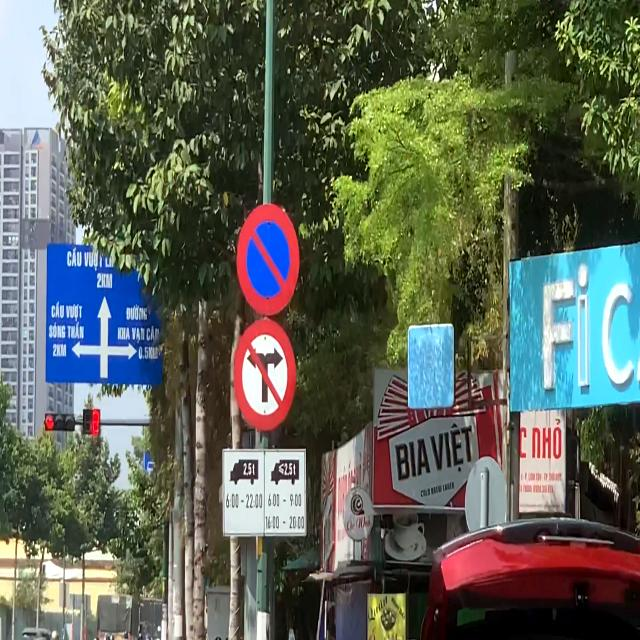P.131a: (236, 202, 300, 317)
P.137: (233, 318, 297, 433)
